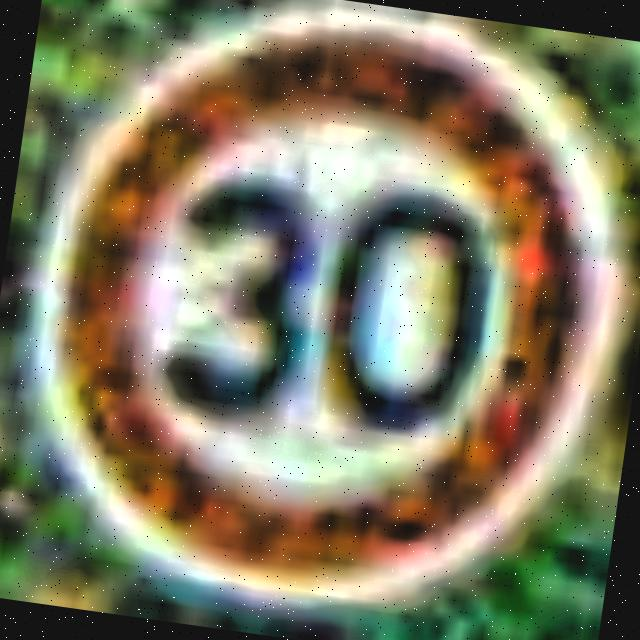speed_30: (15, 0, 640, 638)
